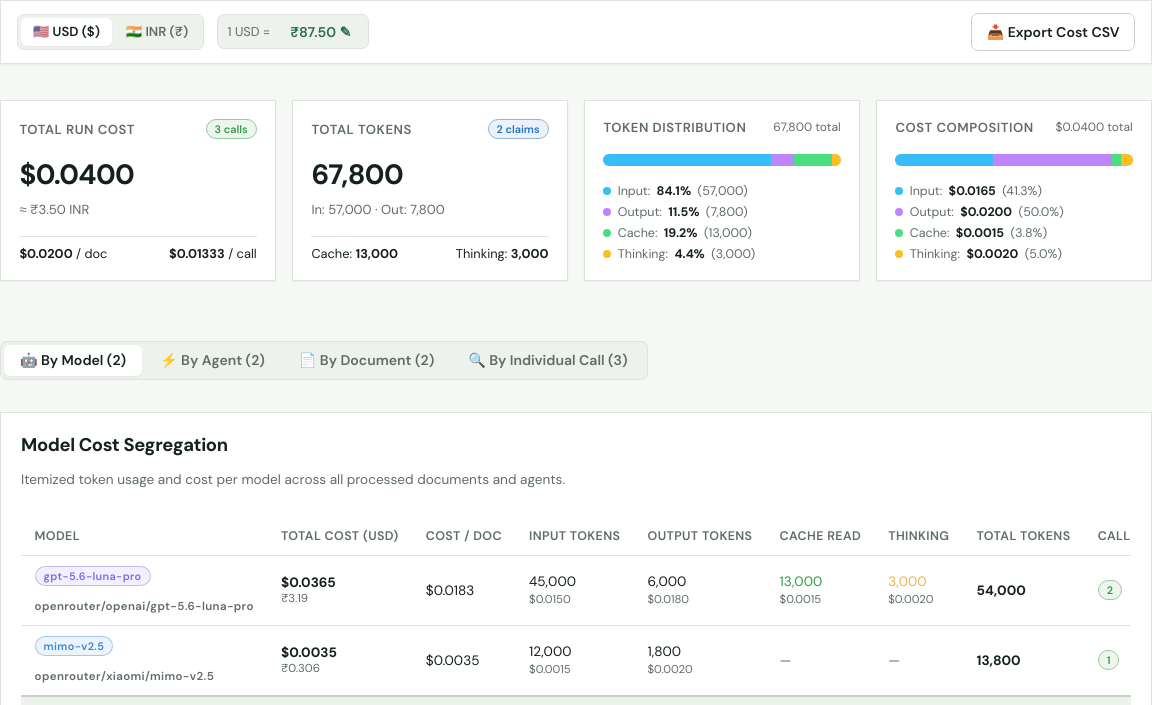
Scenario: CostBreakdown Component › switches between segregation tabs
Switch to By Agent view
Click the button "⚡ By Agent (2)".
click(212, 360)  # box top-left (144, 345), bottom-right (281, 376)
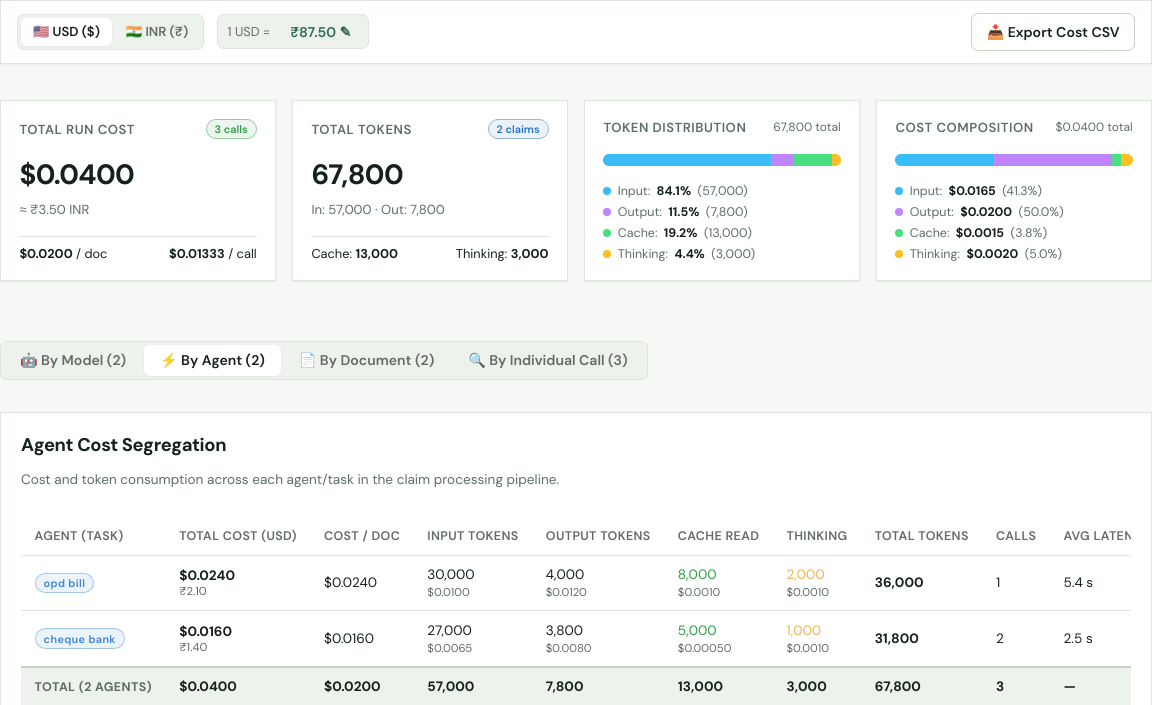
Check: the heading "Agent Cost Segregation" is shown, box top-left (21, 433), bottom-right (226, 457)
Check: the text "cheque bank" is shown, box top-left (35, 628), bottom-right (125, 649)
Check: the text "opd bill" is shown, box top-left (35, 573), bottom-right (94, 593)
Switch to By Document view
Click the button "📄 By Document (2)".
click(367, 360)  # box top-left (283, 345), bottom-right (450, 376)
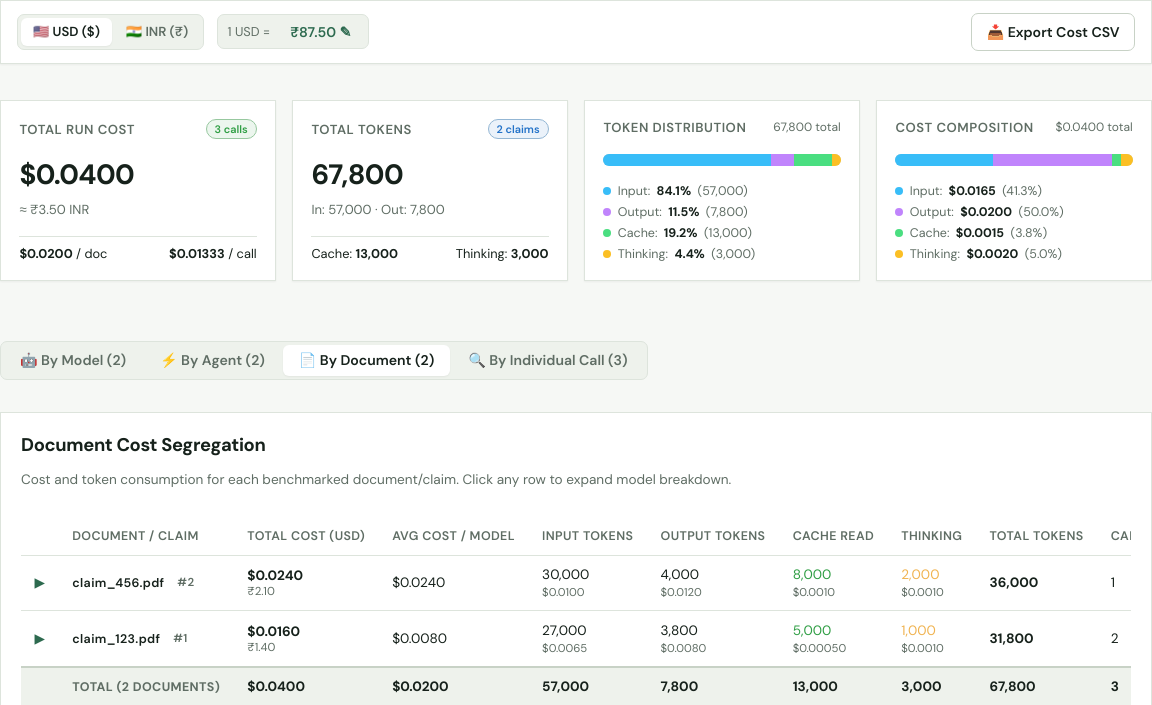
Check: the heading "Document Cost Segregation" is shown, box top-left (21, 433), bottom-right (265, 457)
Check: the text "claim_123.pdf" is shown, box top-left (72, 631), bottom-right (160, 647)
Check: the text "claim_456.pdf" is shown, box top-left (72, 575), bottom-right (165, 591)
Switch to By Individual Call view
Click the button "🔍 By Individual Call (3)".
click(548, 360)  # box top-left (452, 345), bottom-right (644, 376)
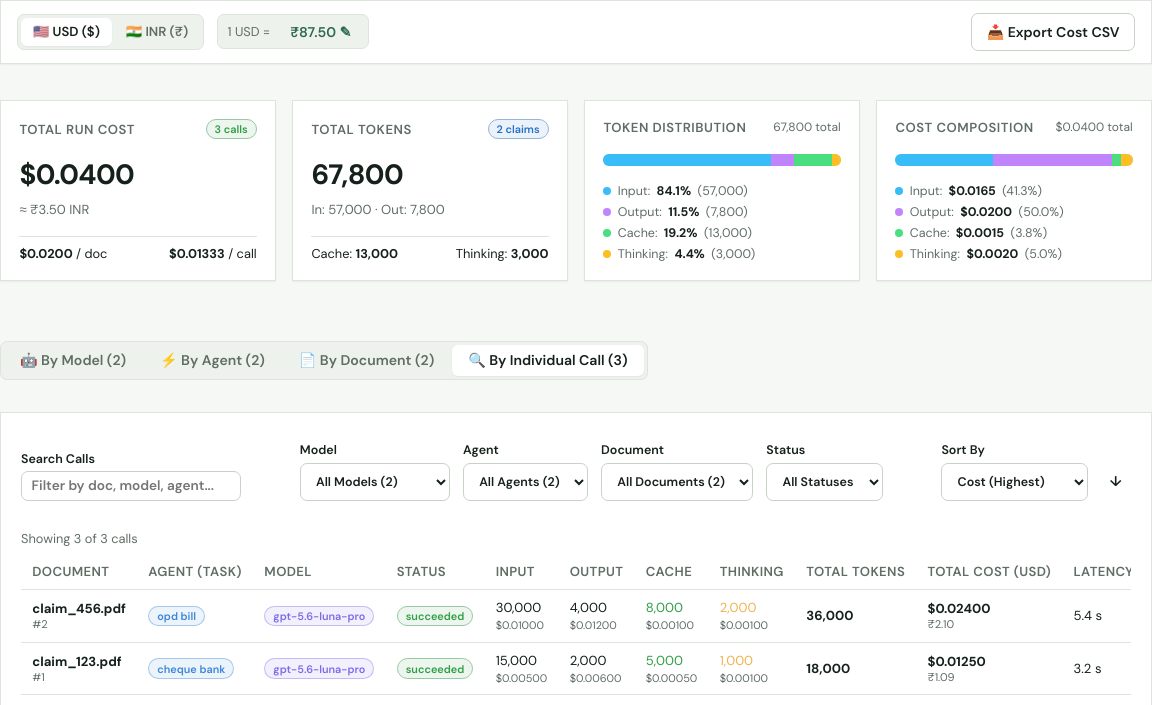
Check: the text "Search Calls" is shown, box top-left (21, 450), bottom-right (241, 501)
